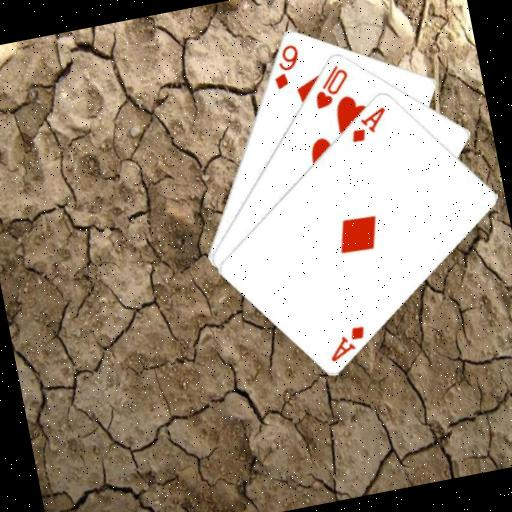10H: (306, 60, 355, 112)
9D: (264, 39, 306, 92)
AD: (344, 102, 393, 145), (322, 322, 371, 365)
